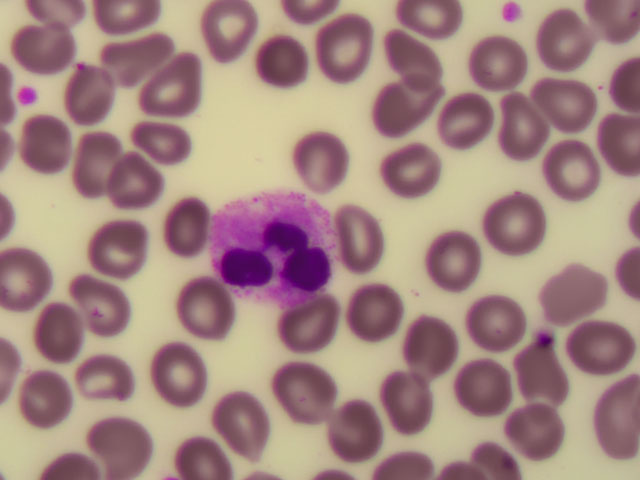Platelets: (14, 83, 37, 107), (498, 4, 522, 20)
RBC: (177, 419, 232, 480), (15, 17, 70, 77), (57, 60, 112, 120), (107, 33, 162, 93), (150, 57, 205, 117), (136, 105, 191, 165), (108, 154, 163, 214), (73, 127, 128, 187), (22, 118, 77, 178), (61, 268, 116, 328), (31, 301, 86, 361), (1, 262, 56, 322), (90, 217, 145, 277), (170, 193, 225, 253), (178, 281, 233, 341), (145, 346, 200, 406), (77, 355, 132, 415), (25, 368, 80, 428), (92, 408, 147, 468), (210, 395, 265, 455), (274, 354, 329, 414), (283, 300, 338, 360), (340, 286, 395, 346), (341, 212, 396, 272), (297, 135, 352, 195), (379, 137, 434, 197), (375, 74, 430, 134), (392, 34, 447, 94), (320, 20, 375, 80), (256, 31, 311, 91), (202, 6, 257, 66), (439, 90, 494, 150), (469, 28, 524, 88), (499, 98, 554, 158), (540, 68, 595, 128), (539, 10, 594, 70), (546, 138, 601, 198), (585, 116, 640, 176), (490, 195, 545, 255), (428, 230, 483, 290), (468, 290, 523, 350), (540, 267, 595, 327), (577, 321, 632, 381), (585, 386, 640, 446), (506, 343, 561, 403), (514, 397, 569, 457), (452, 356, 507, 416), (401, 313, 456, 373), (384, 368, 439, 428), (331, 398, 386, 458)
WBC: (212, 189, 334, 302)
